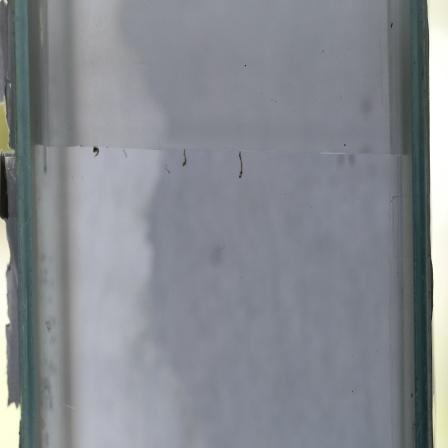Jentik-Nyamuk: (233, 149, 248, 181), (176, 147, 191, 170), (88, 144, 105, 159)
